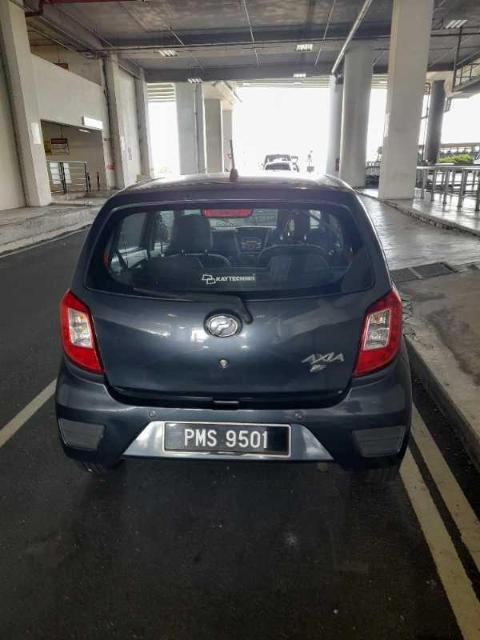License_Plate: (164, 422, 292, 457)
car: (55, 168, 414, 476)
